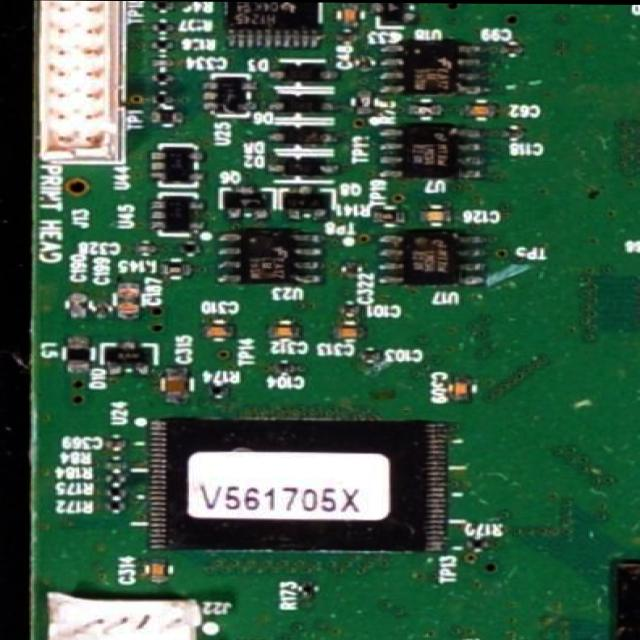IC: (156, 418, 450, 557), (375, 38, 485, 91), (221, 231, 320, 287), (375, 235, 483, 285), (383, 126, 480, 179), (221, 1, 317, 51), (608, 558, 640, 640), (151, 193, 205, 238), (149, 143, 200, 188)
capacitor: (117, 278, 137, 321), (166, 365, 189, 402), (455, 99, 499, 117), (336, 323, 372, 339), (206, 319, 234, 339), (417, 209, 457, 223), (452, 374, 469, 405), (148, 558, 166, 586), (268, 324, 301, 339), (344, 2, 356, 28)
connector: (31, 0, 123, 161)
transistor: (283, 187, 336, 221), (220, 188, 271, 222), (375, 2, 416, 26)
